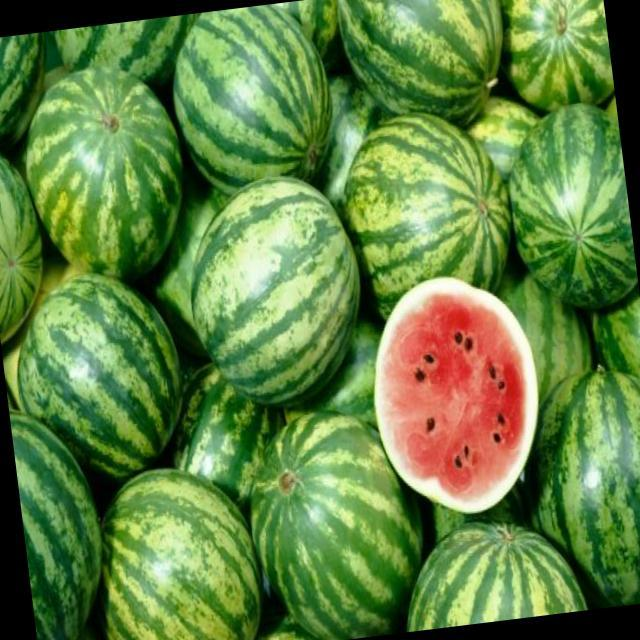WATERMELON: (362, 266, 556, 526), (179, 170, 370, 411), (244, 393, 429, 640), (10, 249, 185, 485), (334, 99, 521, 316), (28, 55, 192, 283), (90, 451, 267, 640), (164, 0, 335, 194), (498, 94, 640, 316), (520, 359, 640, 612), (8, 392, 110, 640), (403, 500, 588, 630), (487, 233, 616, 404), (347, 0, 513, 119), (166, 346, 270, 497), (494, 0, 616, 120), (37, 13, 201, 94), (310, 49, 386, 194), (0, 121, 47, 335), (397, 464, 491, 562), (332, 280, 391, 410), (281, 0, 353, 69), (0, 32, 46, 132), (0, 317, 37, 425)
